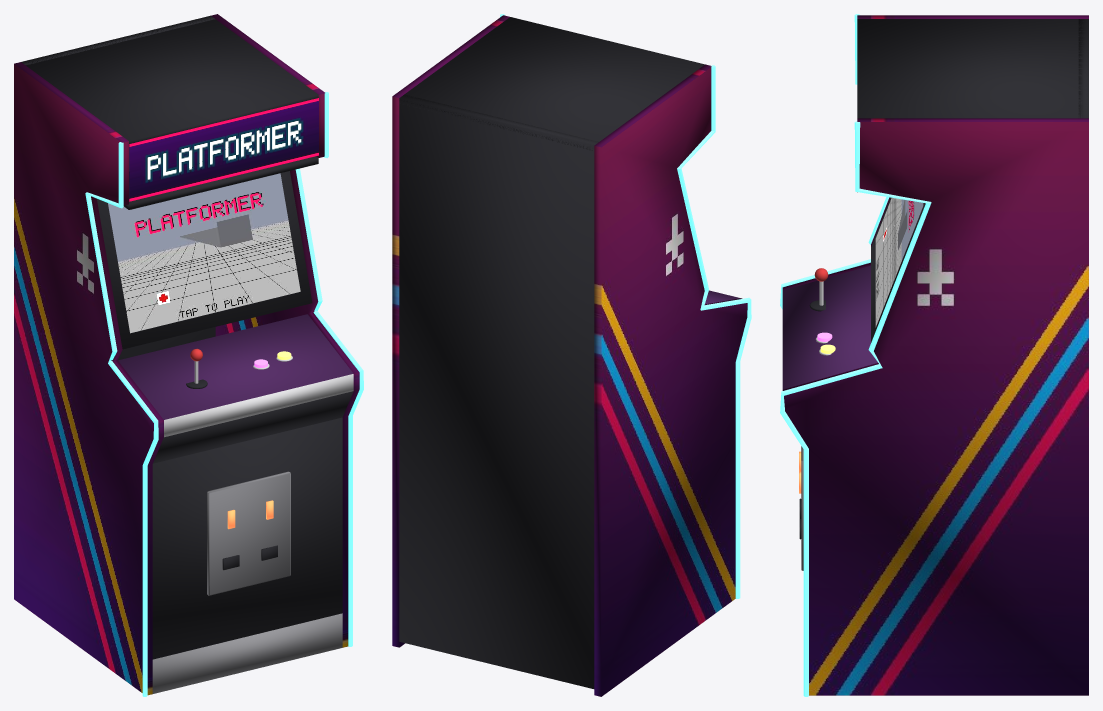
Rendered from arcade_cabinet.glb.
The picture shows the model from 3 angles, left to right: view 1: azimuth 30°, elevation 25°; view 2: azimuth 150°, elevation 25°; view 3: azimuth 270°, elevation 25°; orthographic projection. The views are drawn at different scales.
Parts seen in each view (by area): view 1: Cabinet side art, Cabinet black, Screen, Control panel, Marquee, Coin door, Kick plate, Cabinet T-molding, Cabinet chrome; view 2: Cabinet black, Cabinet side art, Cabinet T-molding; view 3: Cabinet side art, Cabinet black, Control panel, Cabinet T-molding, Screen.
Part boxes in pixels (x1,y1,x2,y2): Cabinet side art: [14, 14, 359, 695]; Cabinet black: [21, 15, 353, 659]; Screen: [108, 173, 300, 333]; Control panel: [118, 314, 353, 419]; Marquee: [129, 98, 318, 201]; Coin door: [207, 471, 290, 595]; Kick plate: [152, 613, 342, 693]; Cabinet T-molding: [85, 92, 363, 696]; Cabinet chrome: [164, 355, 353, 437]; Cabinet black: [399, 17, 704, 688]; Cabinet side art: [392, 15, 747, 696]; Cabinet T-molding: [500, 14, 751, 598]; Cabinet side art: [782, 15, 1088, 695]; Cabinet black: [799, 19, 1088, 539]; Control panel: [782, 265, 877, 389]; Cabinet T-molding: [780, 14, 931, 696]; Screen: [875, 197, 923, 327].
Size of the model in its own units: 0.7599 by 1.86 by 0.9075.
Materials: 13 (3 with a texture image).
